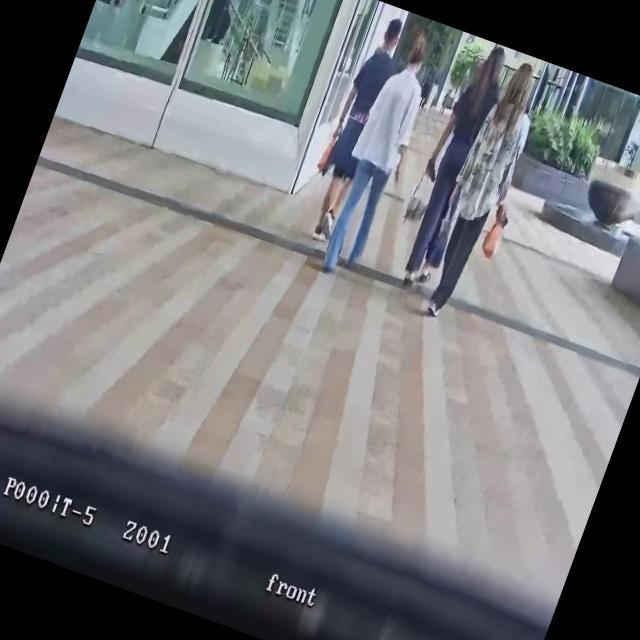person: (409, 53, 557, 330), (310, 29, 448, 288), (385, 35, 515, 292), (294, 10, 413, 248), (414, 64, 438, 110), (438, 83, 458, 118), (423, 77, 442, 111)
